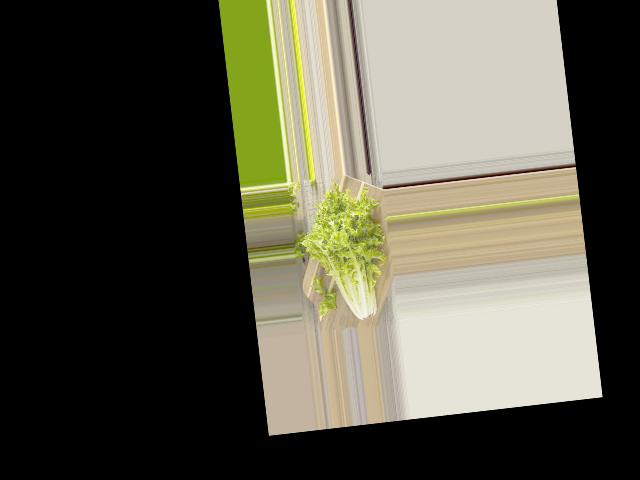lettuce: (297, 182, 412, 294)
